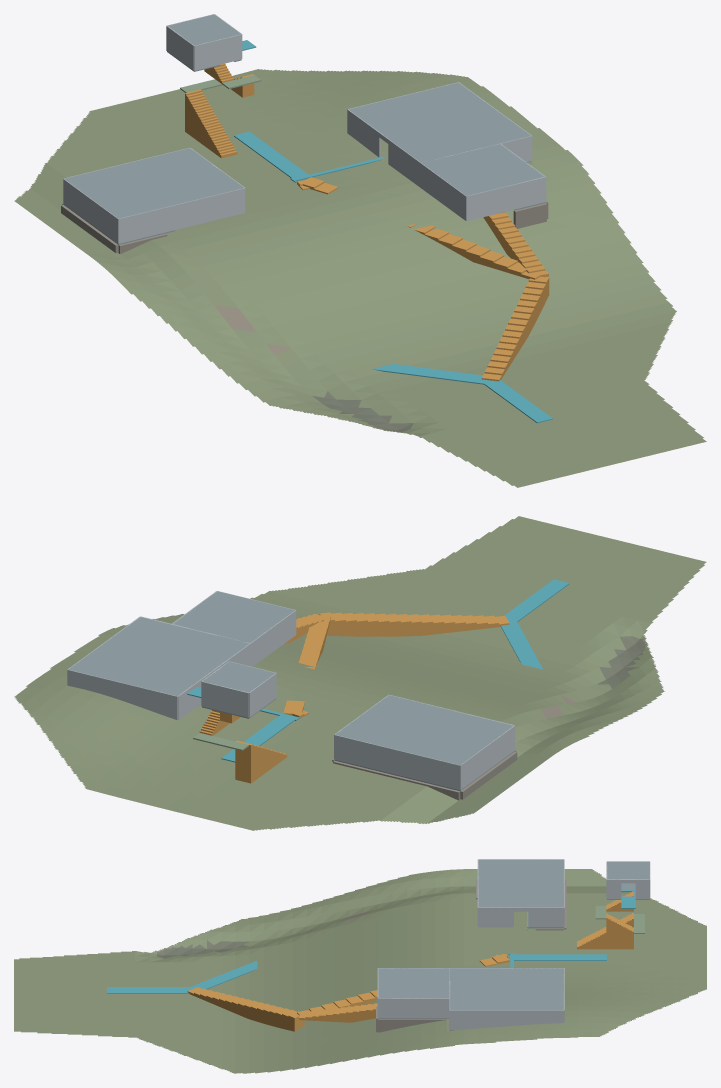
File: supported-terrain.glb
3 views of the same model, one above another, from view 1: azimuth 30°, elevation 25°; view 2: azimuth 150°, elevation 25°; view 3: azimuth 270°, elevation 25° (orthographic). The views are drawn at different scales.
Parts seen in each view (by area): view 1: Saved editor macroterrain WLD-04, Ceiling cap ruin, Ceiling cap hut, Ceiling cap store, Wall hut S, Wall store S, Wall hut W, Ceiling cap cab, Wall cab S, Wall store W, L02 support 0, Wall ruin W (+2 smaller); view 2: Saved editor macroterrain WLD-04, Ceiling cap ruin, Ceiling cap hut, Ceiling cap store, Wall hut N, Wall ruin N, Wall hut W, Ceiling cap cab, Wall cab N, Wall store W, L02 support 0, Wall cab W (+3 smaller); view 3: Saved editor macroterrain WLD-04, Ceiling cap ruin, Ceiling cap hut, Ceiling cap store, Wall ruin E, Wall store E, Ceiling cap cab, Wall hut E, Wall hut E.001, L02 support 0.
Part boxes in pixels (x1,y1,x2,y2): Saved editor macroterrain WLD-04: [14, 69, 706, 487]; Ceiling cap ruin: [348, 82, 530, 162]; Ceiling cap hut: [64, 148, 243, 218]; Ceiling cap store: [421, 144, 544, 195]; Wall hut S: [118, 188, 245, 243]; Wall store S: [466, 177, 545, 220]; Wall hut W: [63, 179, 118, 243]; Ceiling cap cab: [168, 14, 241, 45]; Wall cab S: [194, 34, 241, 70]; Wall store W: [420, 163, 466, 220]; L02 support 0: [372, 364, 489, 384]; Wall ruin W: [347, 109, 380, 157]; Saved editor macroterrain WLD-04: [14, 516, 706, 830]; Ceiling cap ruin: [68, 617, 249, 696]; Ceiling cap hut: [335, 695, 513, 765]; Ceiling cap store: [173, 591, 294, 643]; Wall hut N: [334, 735, 460, 790]; Wall ruin N: [67, 669, 177, 720]; Wall hut W: [460, 725, 515, 789]; Ceiling cap cab: [202, 661, 275, 692]; Wall cab N: [201, 681, 248, 717]; Wall store W: [250, 610, 296, 666]; L02 support 0: [500, 620, 543, 669]; Wall cab W: [249, 673, 276, 717]; Saved editor macroterrain WLD-04: [14, 869, 706, 1073]; Ceiling cap ruin: [449, 968, 563, 1010]; Ceiling cap hut: [478, 859, 563, 907]; Ceiling cap store: [378, 968, 449, 998]; Wall ruin E: [449, 1010, 563, 1029]; Wall store E: [378, 998, 449, 1017]; Ceiling cap cab: [607, 861, 649, 879]; Wall hut E: [528, 907, 563, 927]; Wall hut E.001: [478, 907, 513, 927]; L02 support 0: [191, 960, 257, 989].
Bounding box in the file's own units: 59 × 19.15 × 97.
